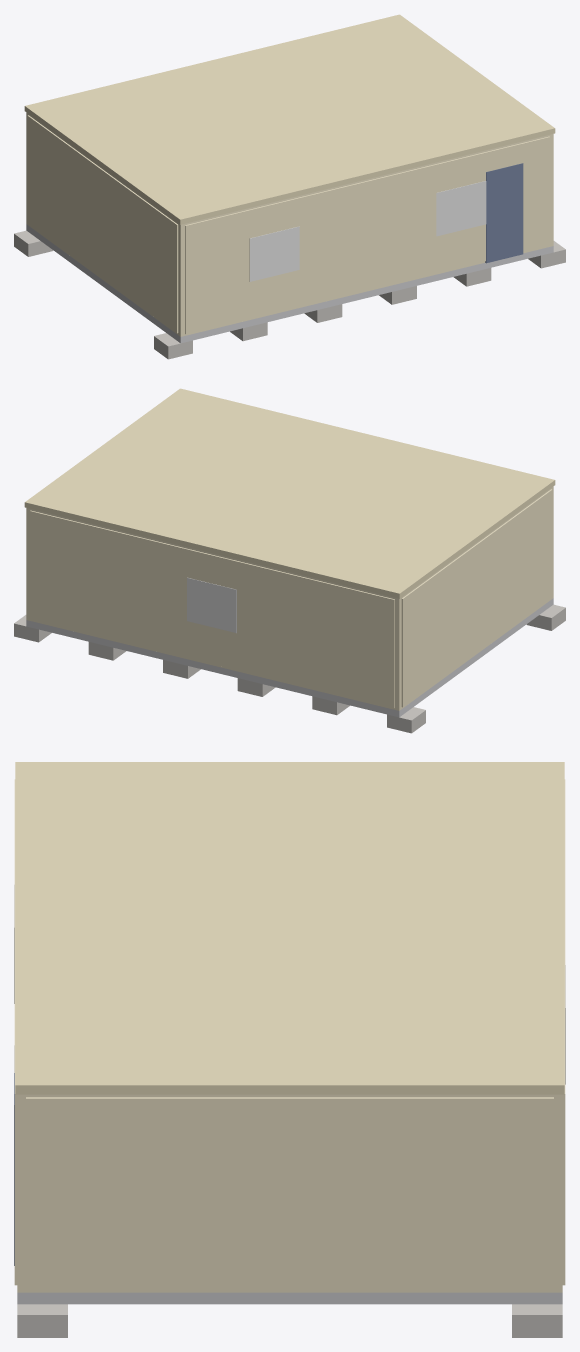
File: Studio-30-Base-RiceYellow-LOD0.glb
3 views of the same model, one above another, from view 1: azimuth 30°, elevation 25°; view 2: azimuth 150°, elevation 25°; view 3: azimuth 270°, elevation 25° (orthographic). The views are drawn at different scales.
Parts seen in each view (by area): view 1: RoofMain, ExteriorPanelsStandard, WindowsStandard, BaseFrame, FoundationBlocks, ExteriorShell, EntryDoor; view 2: RoofMain, ExteriorPanelsStandard, BaseFrame, FoundationBlocks, ExteriorShell, WindowsStandard; view 3: RoofMain, ExteriorPanelsStandard, ExteriorShell, BaseFrame, FoundationBlocks.
Part boxes in pixels (x1,y1,x2,y2): RoofMain: (24,14,555,224); ExteriorPanelsStandard: (27,115,550,334); WindowsStandard: (249,181,486,281); BaseFrame: (26,224,553,343); FoundationBlocks: (14,230,565,359); ExteriorShell: (26,112,553,336); EntryDoor: (485,163,523,263); RoofMain: (24,388,555,598); ExteriorPanelsStandard: (30,489,552,708); BaseFrame: (26,598,553,717); FoundationBlocks: (14,604,565,733); ExteriorShell: (26,486,553,710); WindowsStandard: (187,577,236,633); RoofMain: (15,762,564,1094); ExteriorPanelsStandard: (14,779,565,1289); ExteriorShell: (17,1094,562,1292); BaseFrame: (17,1292,562,1304); FoundationBlocks: (17,1304,562,1337).
Size of the model in its own units: 9.6 by 3.17 by 6.53.
